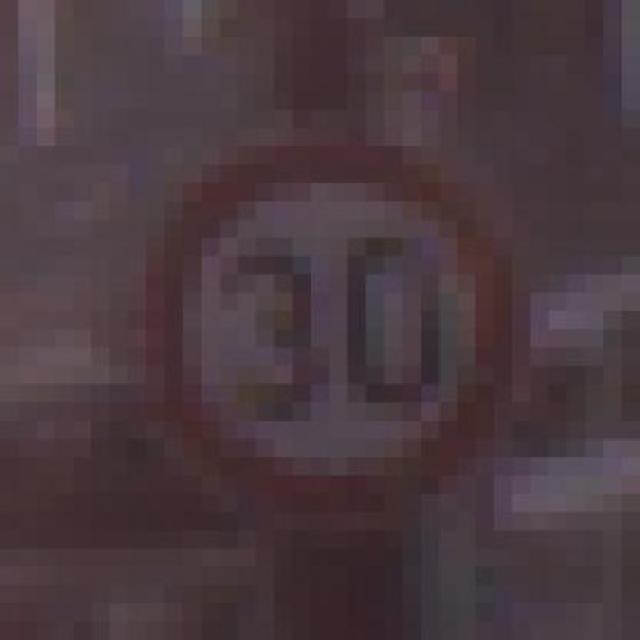Speed Limit 30 KMPh: (73, 110, 567, 567)
